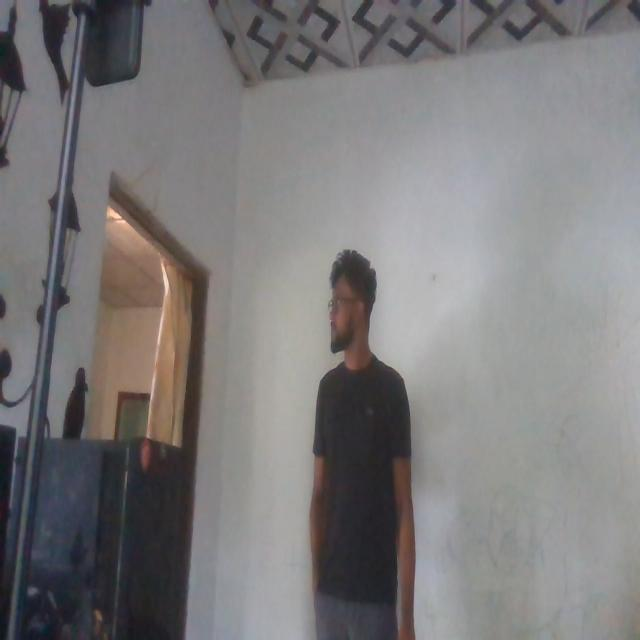Person: (312, 246, 422, 640)
